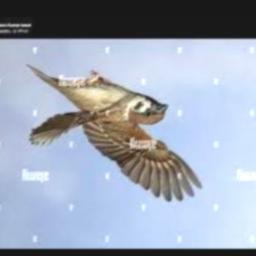Sparrow: (26, 63, 203, 202)
